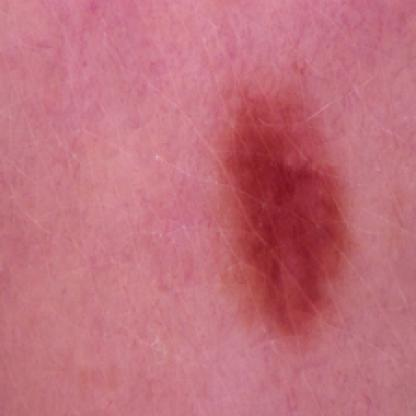benign: (212, 74, 358, 340)
